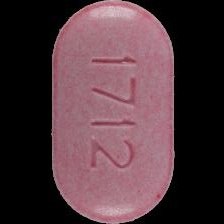70786-1712: (0, 0, 224, 224)
